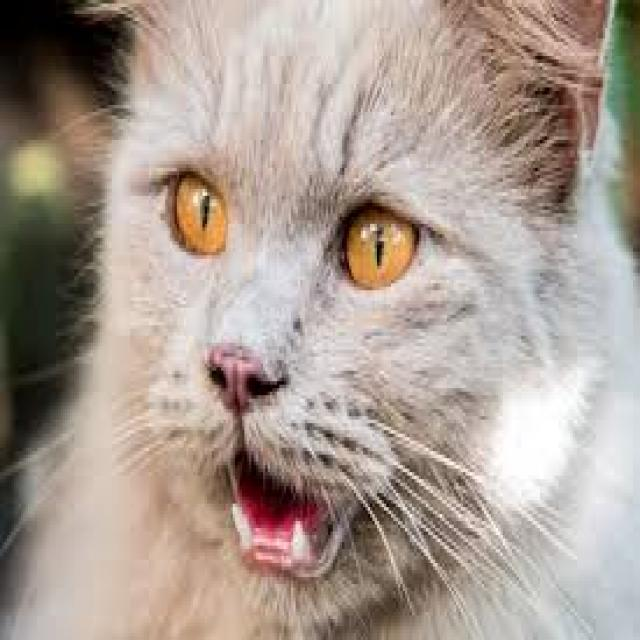Cat: (7, 1, 638, 640)
